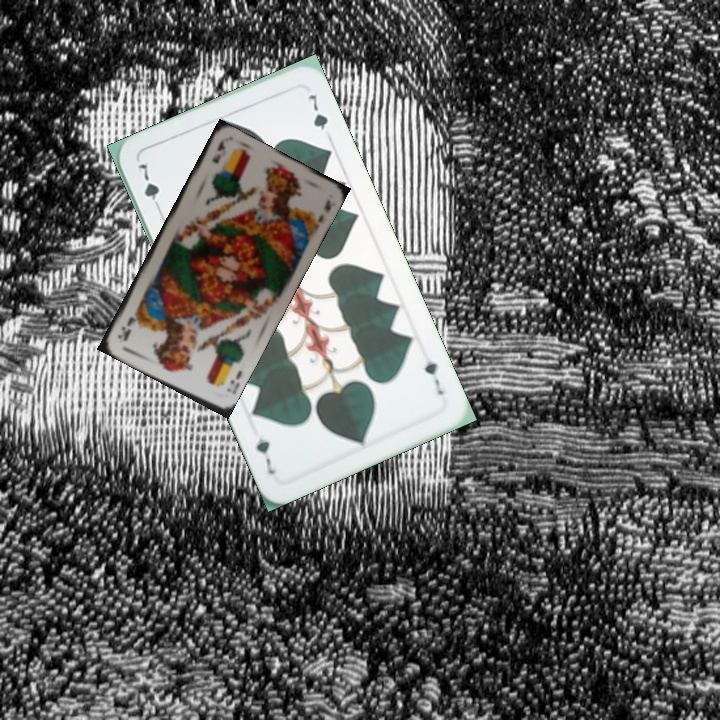EK: (223, 366, 245, 395), (207, 137, 228, 166)
G7: (133, 159, 164, 214), (420, 356, 447, 398)
